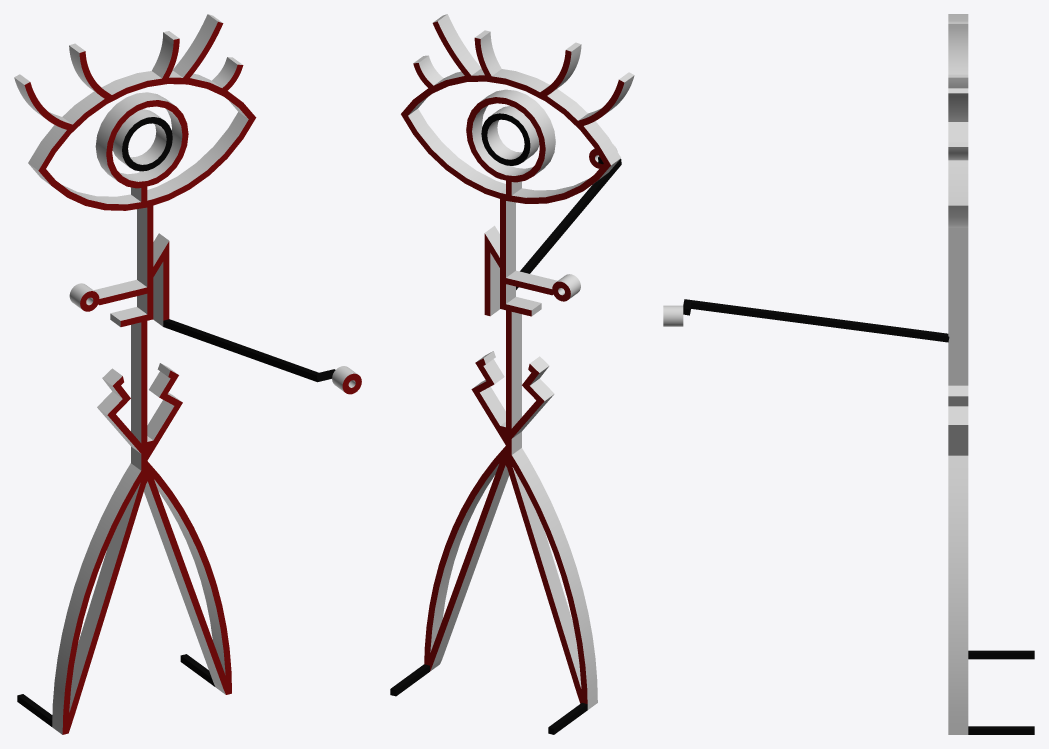
3 renders of one model, left to right at view 1: azimuth 30°, elevation 25°; view 2: azimuth 150°, elevation 25°; view 3: azimuth 270°, elevation 25°, orthographic. The views are drawn at different scales.
Visible parts, largest first — view 1: Group2, Group1; view 2: Group2, Group1, Group3, Group4; view 3: Group2, Group1, Group3, Group4.
Part boxes in pixels (<box>): Group2: <box>14,14,361,734</box>; Group1: <box>163,319,335,382</box>; Group2: <box>401,14,634,709</box>; Group1: <box>516,156,621,289</box>; Group3: <box>548,703,587,734</box>; Group4: <box>390,664,429,696</box>; Group2: <box>663,14,968,734</box>; Group1: <box>683,299,949,342</box>; Group3: <box>968,650,1034,659</box>; Group4: <box>968,726,1034,734</box>.
Size of the model in its own units: 1.91 by 5.35 by 2.8.
